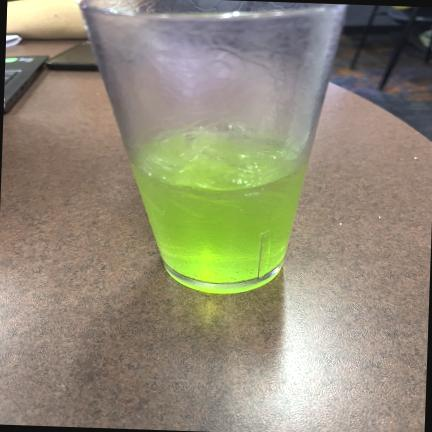container: (80, 0, 346, 294)
fluid: (132, 164, 305, 284)
fluid-surface: (138, 130, 298, 191)
